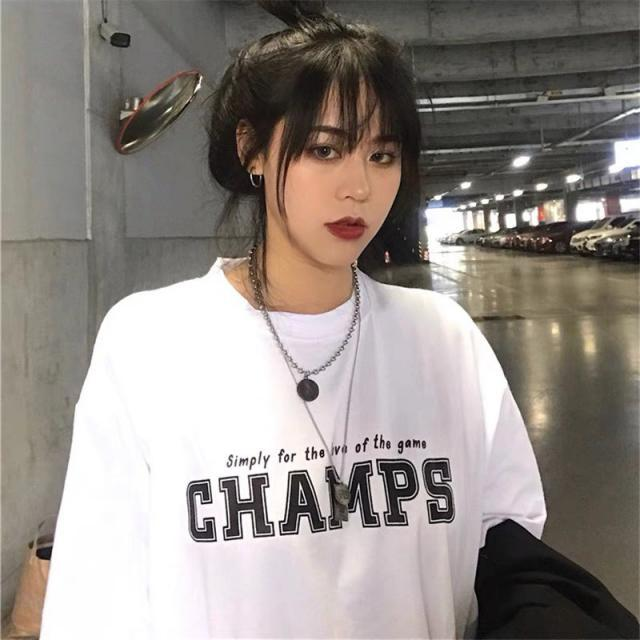Shirt: (39, 252, 554, 640)
